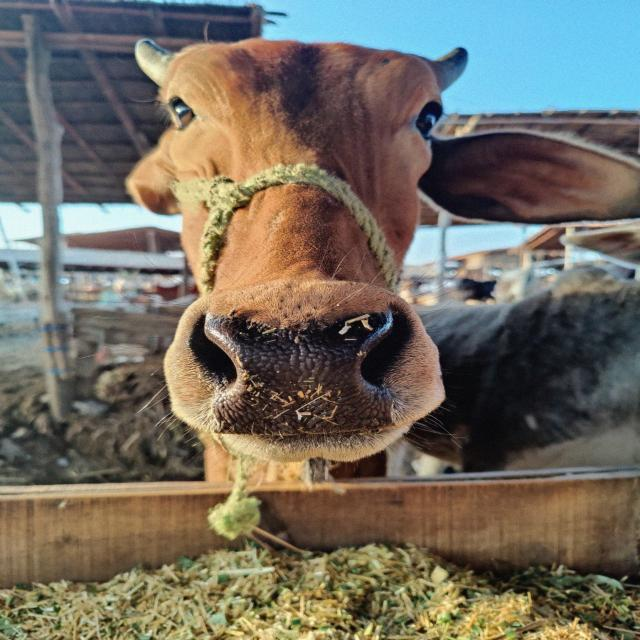muzzles: (186, 302, 404, 446)
